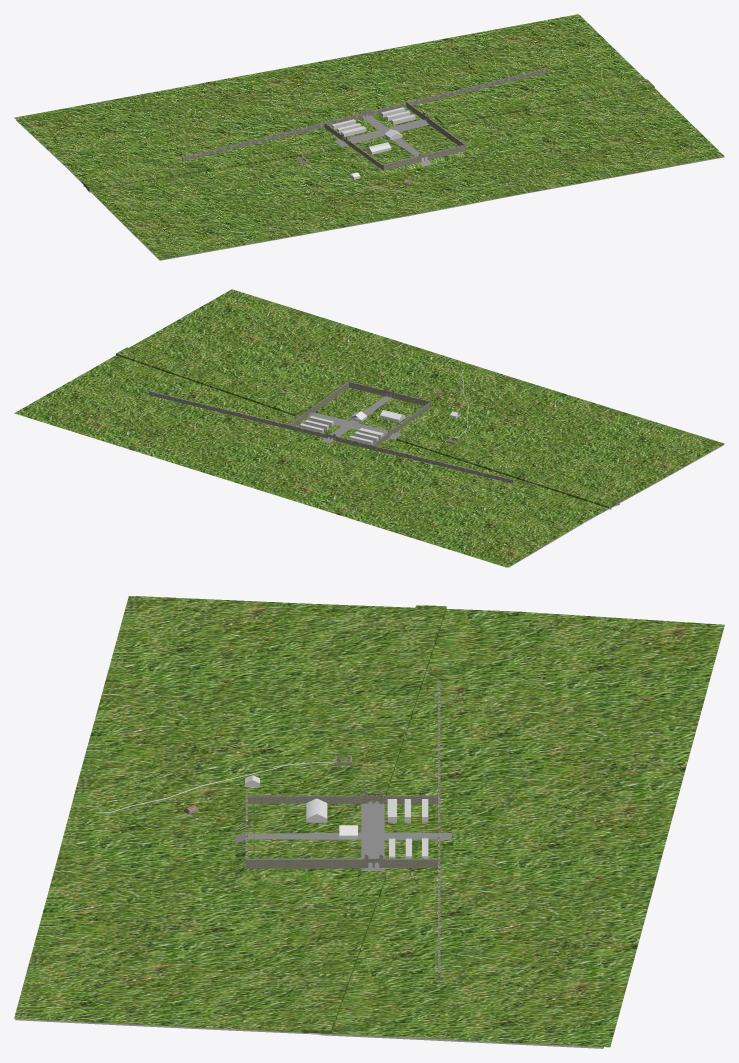
Rendered from full_site.FBX.
3 views of the same model, one above another, from view 1: azimuth 30°, elevation 25°; view 2: azimuth 150°, elevation 25°; view 3: azimuth 270°, elevation 25° (orthographic). The views are drawn at different scales.
Visible parts, largest first — view 1: Plane004, plane, plane001, South Wall, East Wall, North Wall; view 2: Plane004, plane, South Wall, North Wall; view 3: Plane004, plane, East Wall, west wall, plane001, west wall002.
Part boxes in pixels (<box>): Plane004: <box>14,14,722,258</box>; plane: <box>88,23,724,259</box>; plane001: <box>16,120,724,260</box>; South Wall: <box>382,144,465,170</box>; East Wall: <box>406,102,466,150</box>; North Wall: <box>324,102,405,125</box>; Plane004: <box>14,290,721,567</box>; plane: <box>125,289,724,502</box>; South Wall: <box>349,381,430,406</box>; North Wall: <box>289,425,371,449</box>; Plane004: <box>21,596,724,1047</box>; plane: <box>14,596,603,1047</box>; East Wall: <box>245,854,439,868</box>; west wall: <box>247,791,437,802</box>; plane001: <box>15,1018,603,1048</box>; west wall002: <box>247,793,437,804</box>.
Bounding box in the file's own units: 30365 × 718 × 20210.
